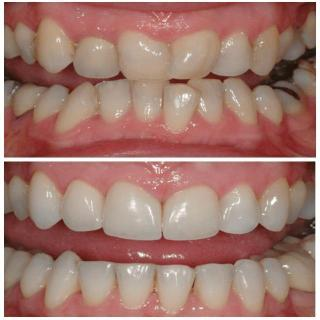maligned: (161, 80, 201, 132), (282, 24, 304, 60)
plaque: (64, 38, 88, 66), (84, 87, 104, 119), (245, 40, 263, 66), (27, 35, 45, 59)
